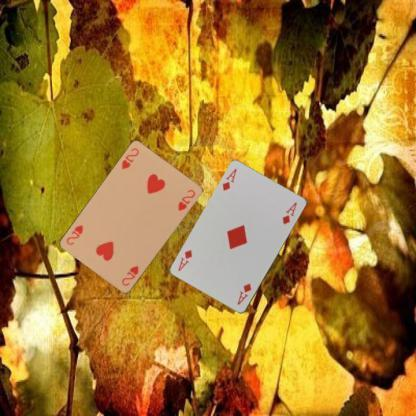2h: (118, 146, 140, 172), (119, 264, 140, 288)
Ad: (234, 281, 252, 307), (220, 166, 238, 192)
